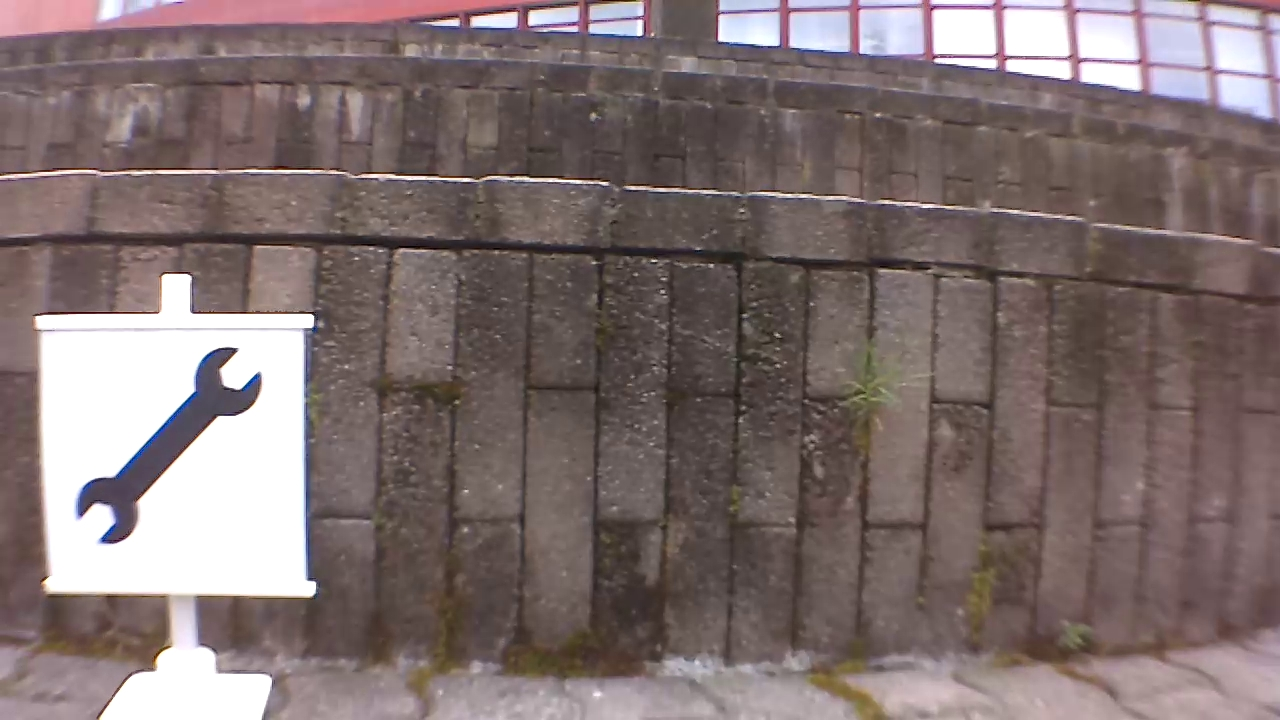wrench: (71, 348, 267, 545)
